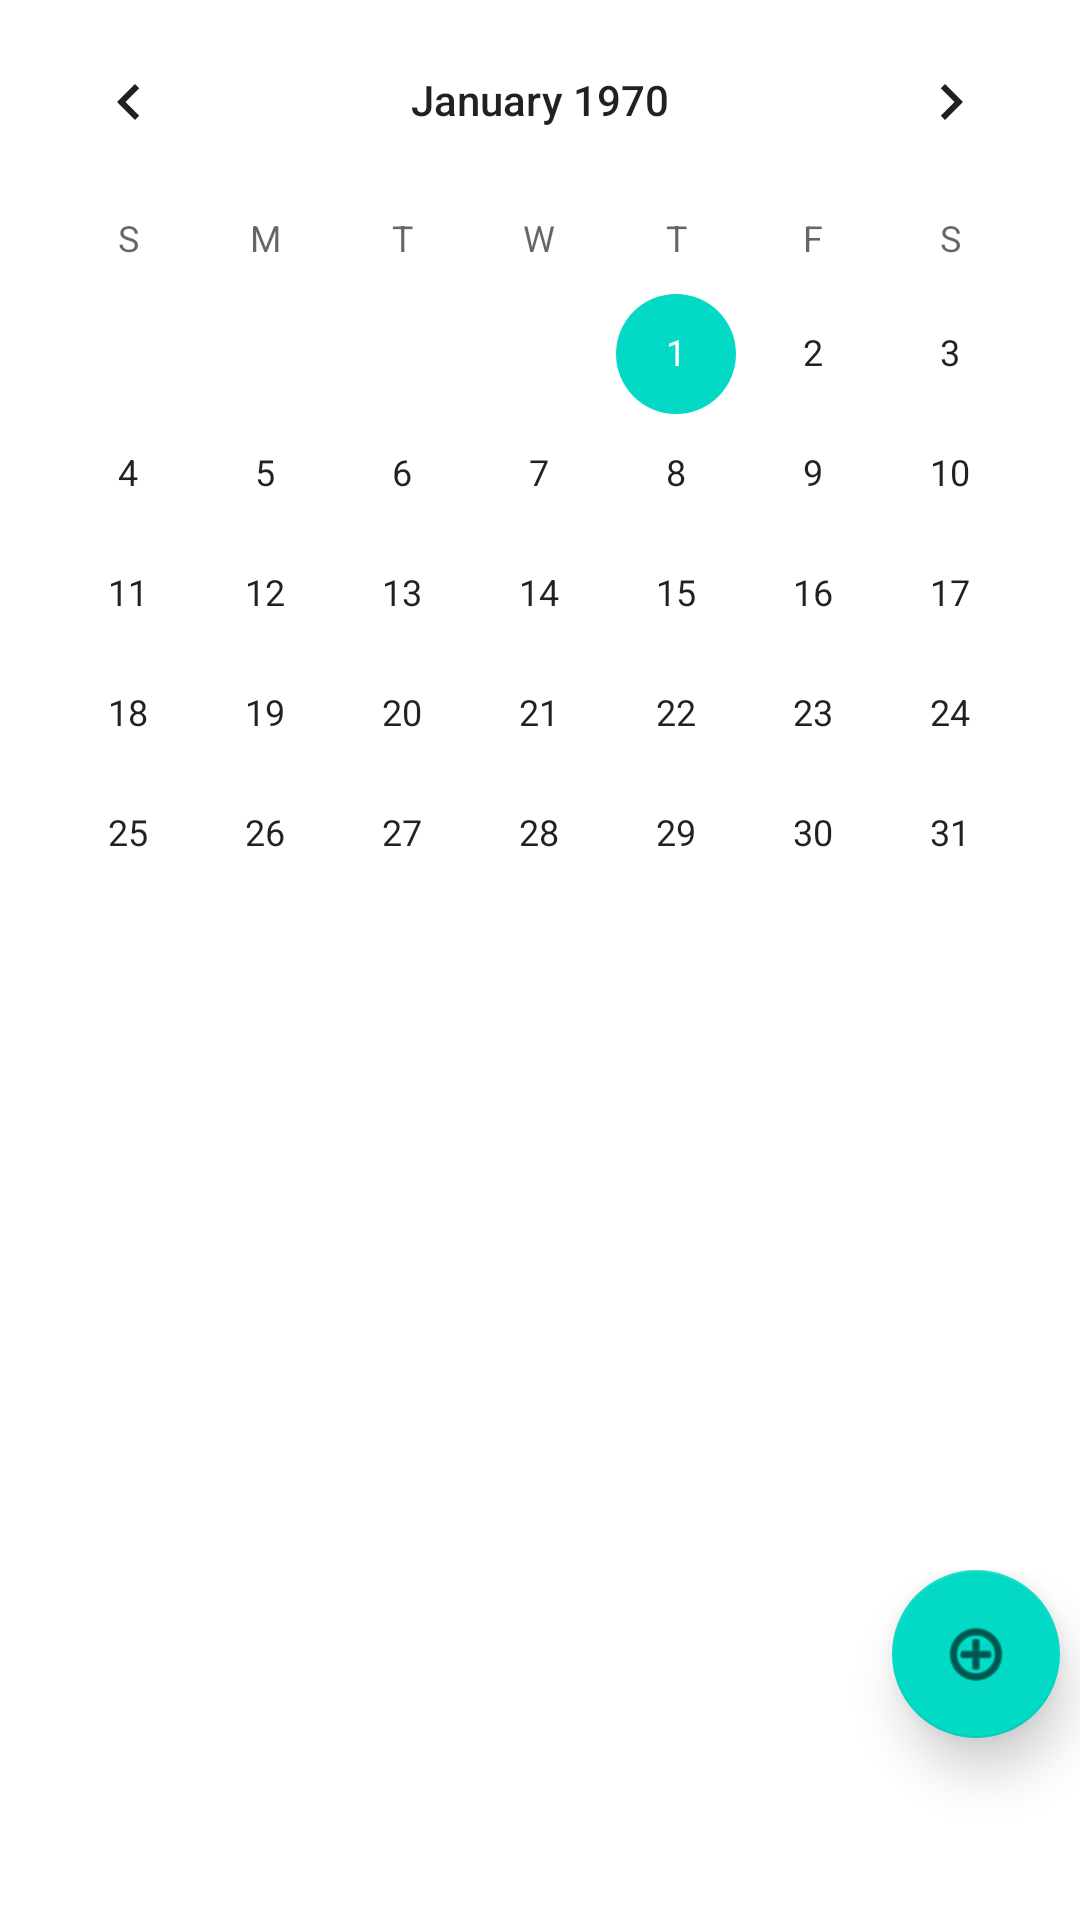

Icon bounding boxes for this 1080w x 1920h phone screenshot, format bbox=(x1, y1, x2, y2):
add: bbox=(892, 1570, 1060, 1738)
